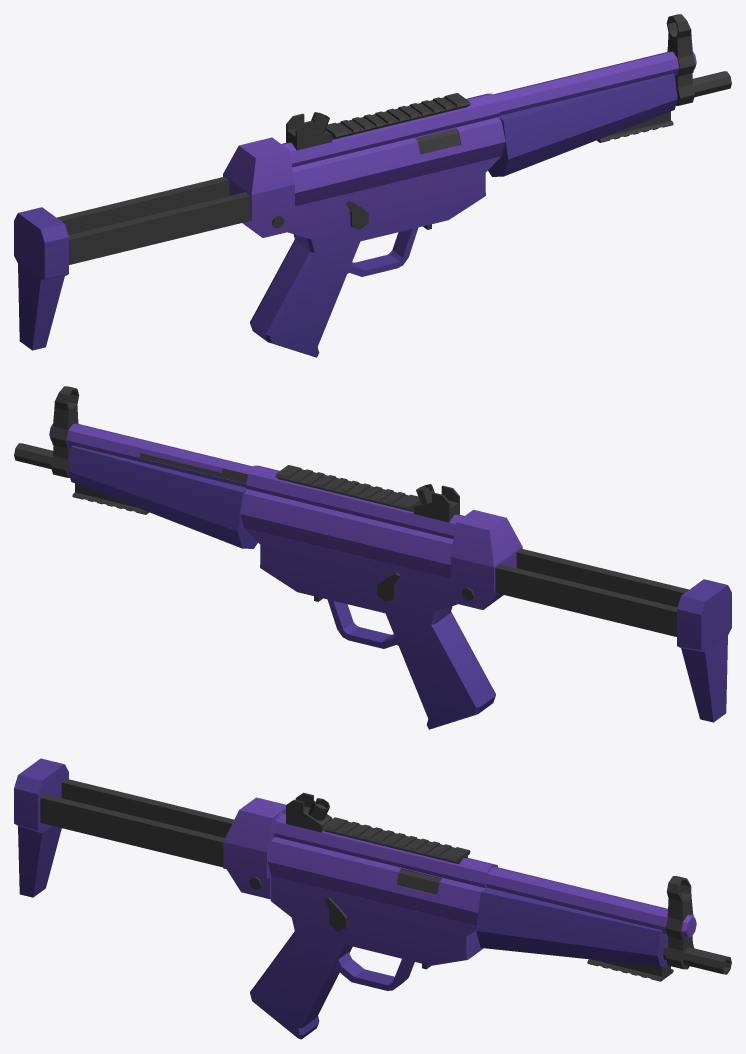
File: SMG2_05.fbx
3 renders of one model, top to bottom at view 1: azimuth 30°, elevation 25°; view 2: azimuth 150°, elevation 25°; view 3: azimuth 330°, elevation 25°, orthographic.
Parts seen in each view (by area): view 1: SMG2_05; view 2: SMG2_05; view 3: SMG2_05.
Part boxes in pixels (x1=…): SMG2_05: x1=14, y1=14, x2=731, y2=357; SMG2_05: x1=14, y1=386, x2=731, y2=729; SMG2_05: x1=14, y1=758, x2=731, y2=1039.
Bounding box in the file's own units: 0.7164 × 0.2409 × 0.0566.
